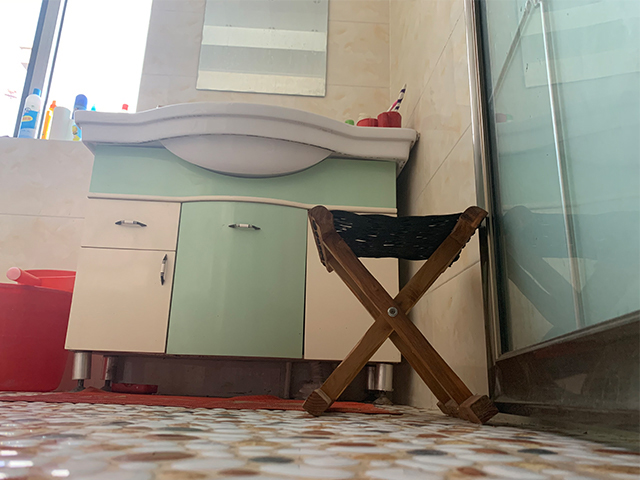cabinet: (64, 100, 418, 407)
carpet: (1, 385, 404, 415)
stool: (301, 204, 501, 425)
